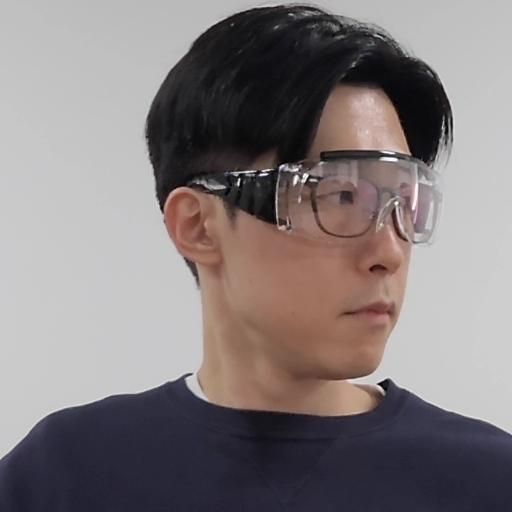glasses: (156, 1, 461, 402)
